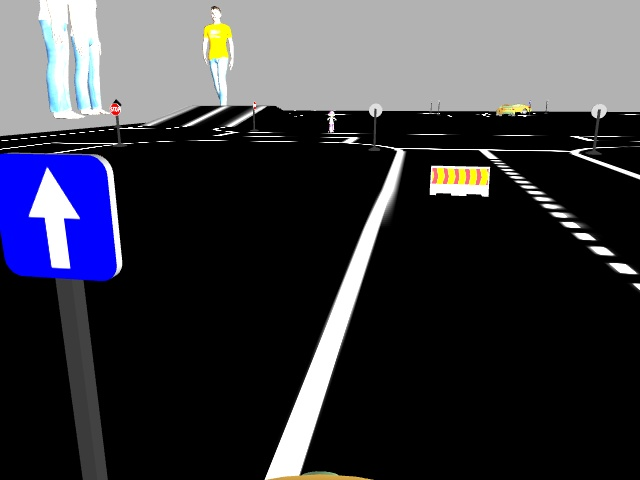ClosedRoadStand: (430, 166, 488, 195)
OneWay: (0, 155, 122, 280)
